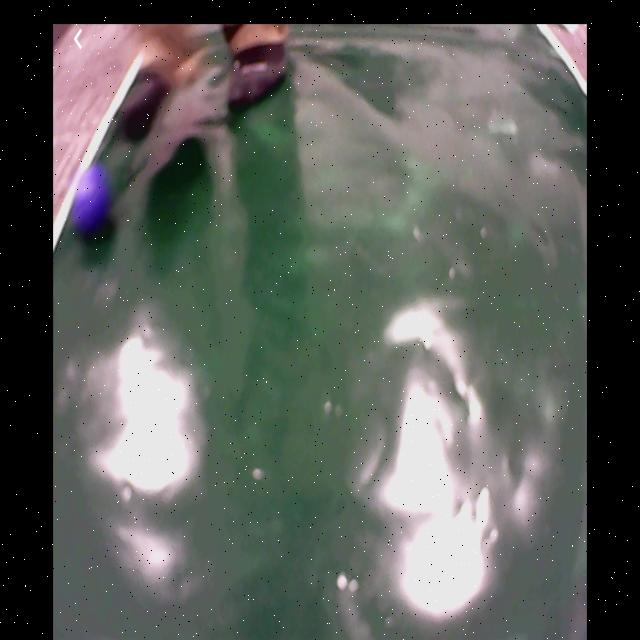ball: (65, 168, 108, 235)
